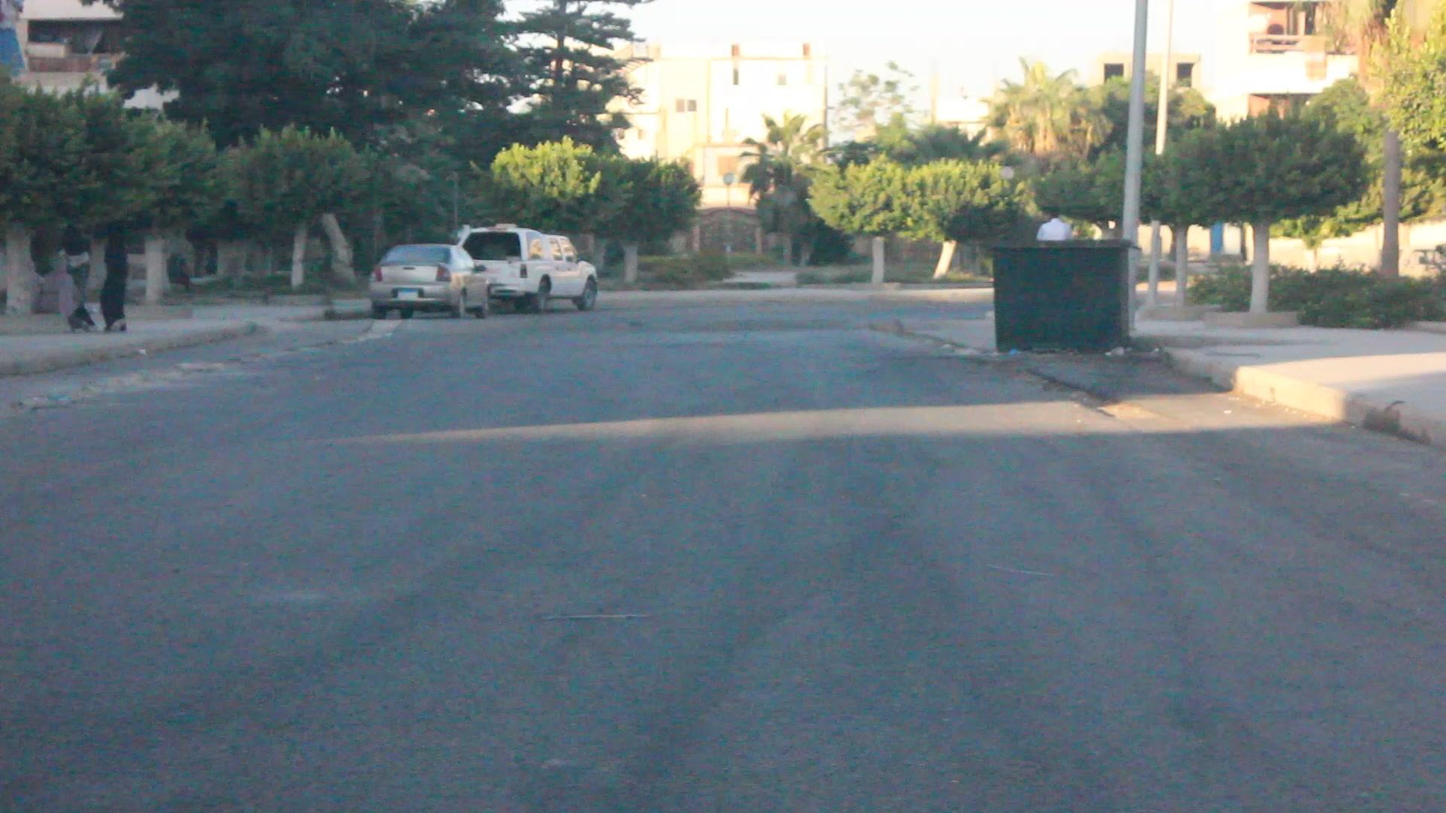Bump: (350, 312, 904, 343)
